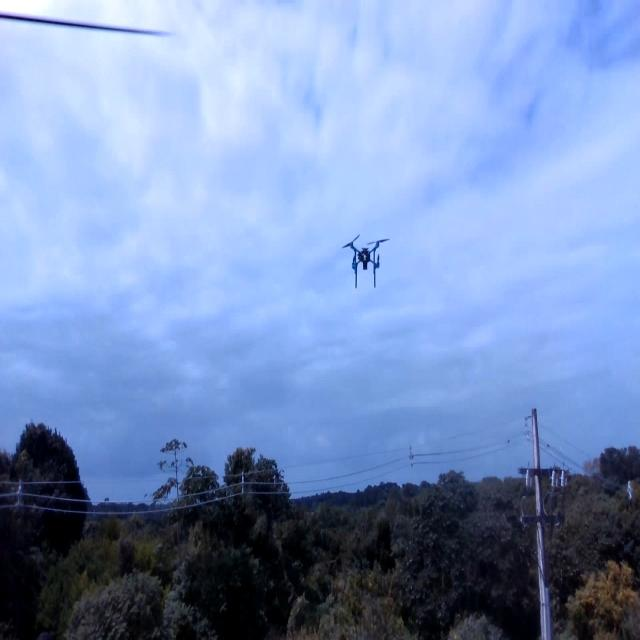-uav-: (337, 215, 391, 295)
